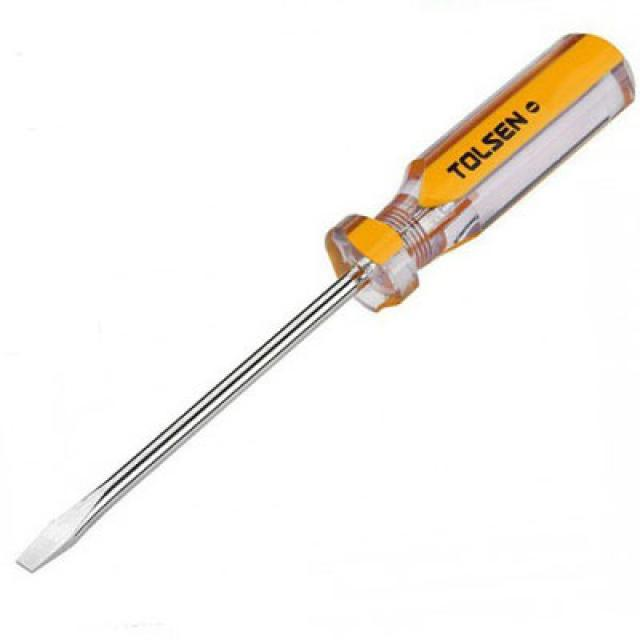screwdriver: (13, 27, 640, 579)
